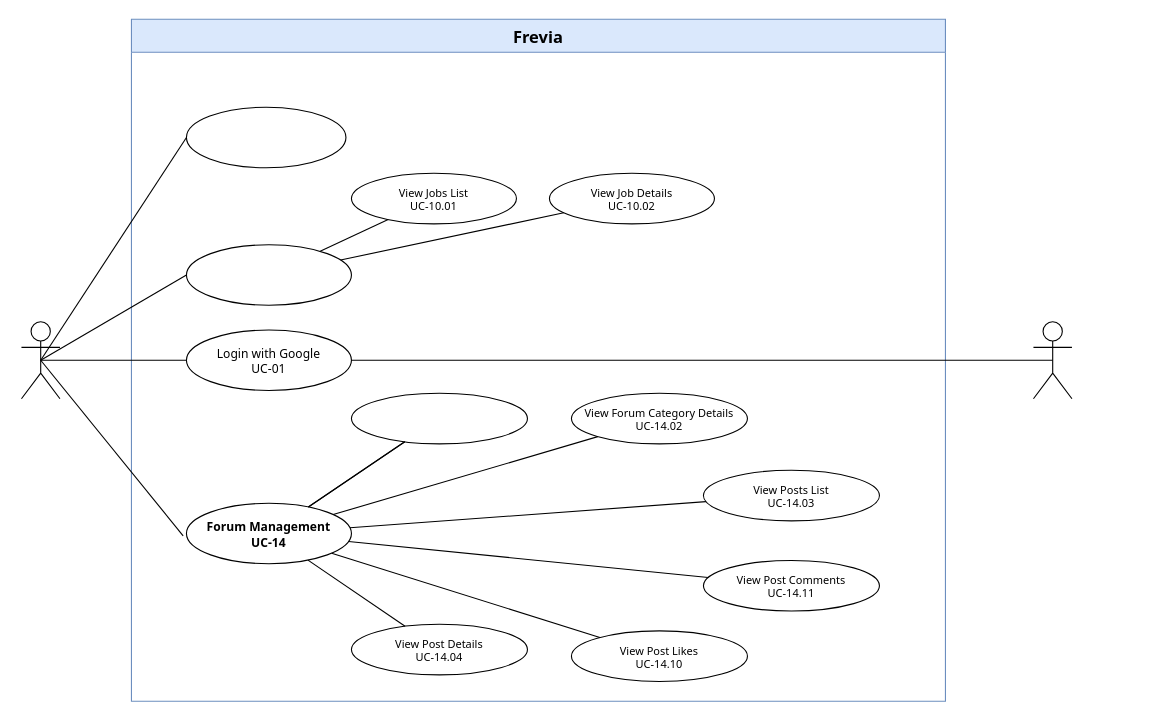
Some shapes in this 1165 by 721 pixel diagram are drawn without their labels. The centre of each missing label's shape, as x and y in pixels:
"Google Authentication Service" belongs at [1052,360].
"Guest" belongs at [40,360].
"Job Browsing UC-10" belongs at [268,274].
"Register UC-04" belongs at [265,137].
"View Forum Categories List UC-14.01" belongs at [438,418].
